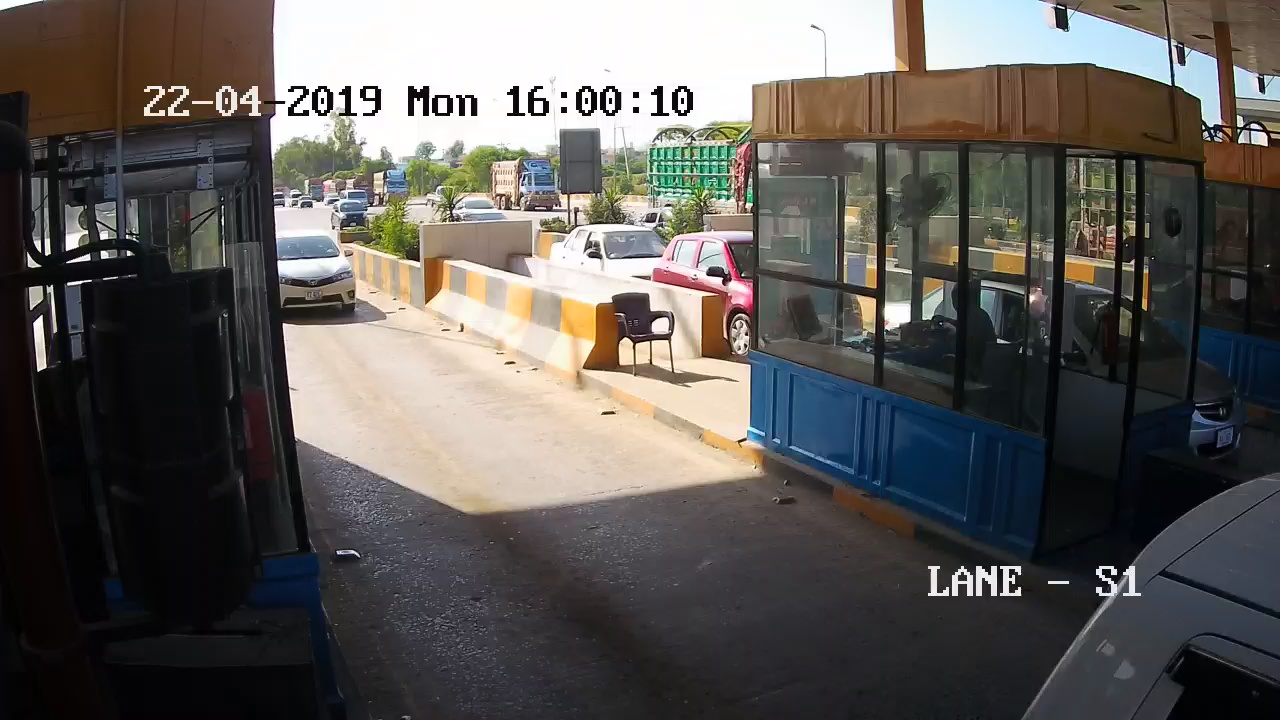car: (273, 226, 364, 335)
